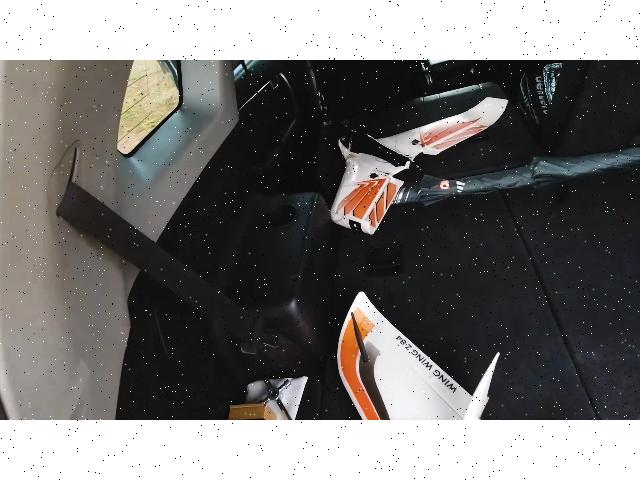Anti-Drone: (312, 78, 534, 244)
